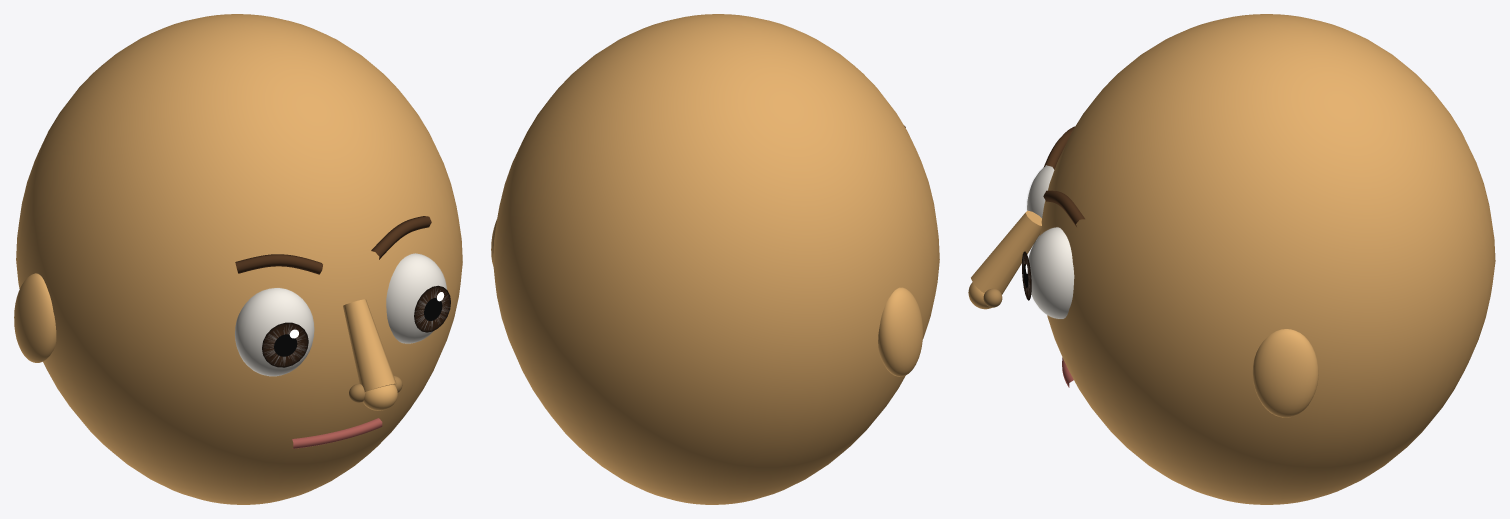
The model's file is 02-long.glb.
The picture shows the model from 3 angles, left to right: view 1: azimuth 30°, elevation 25°; view 2: azimuth 150°, elevation 25°; view 3: azimuth 270°, elevation 25°; orthographic projection.
Bounding box in the file's own units: 0.3087 × 0.321 × 0.3352.
9 materials, 1 textured.
